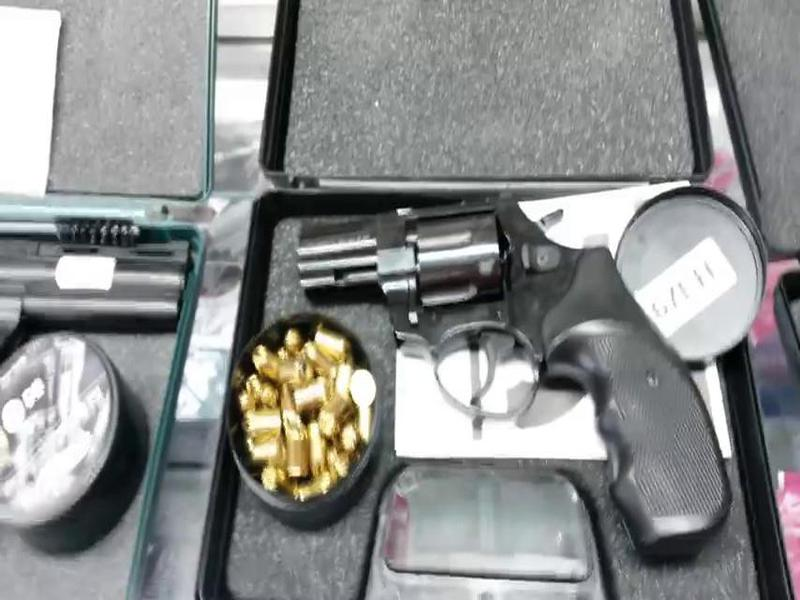Revolver: (291, 170, 764, 559)
